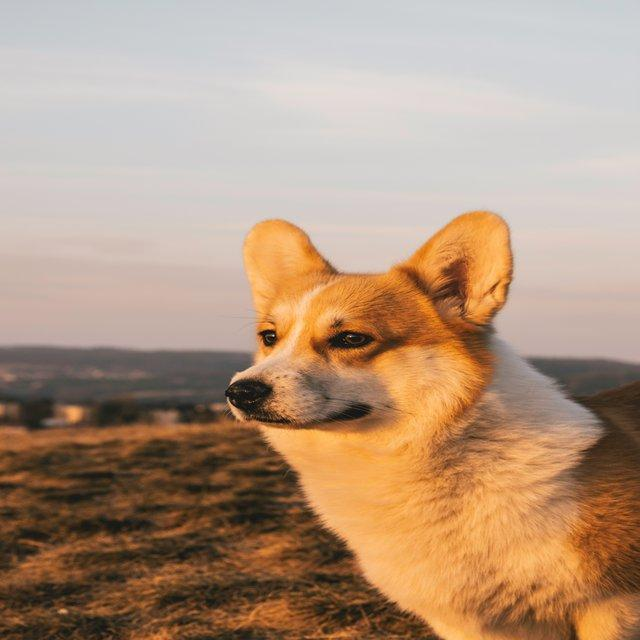corgi: (223, 209, 639, 638)
